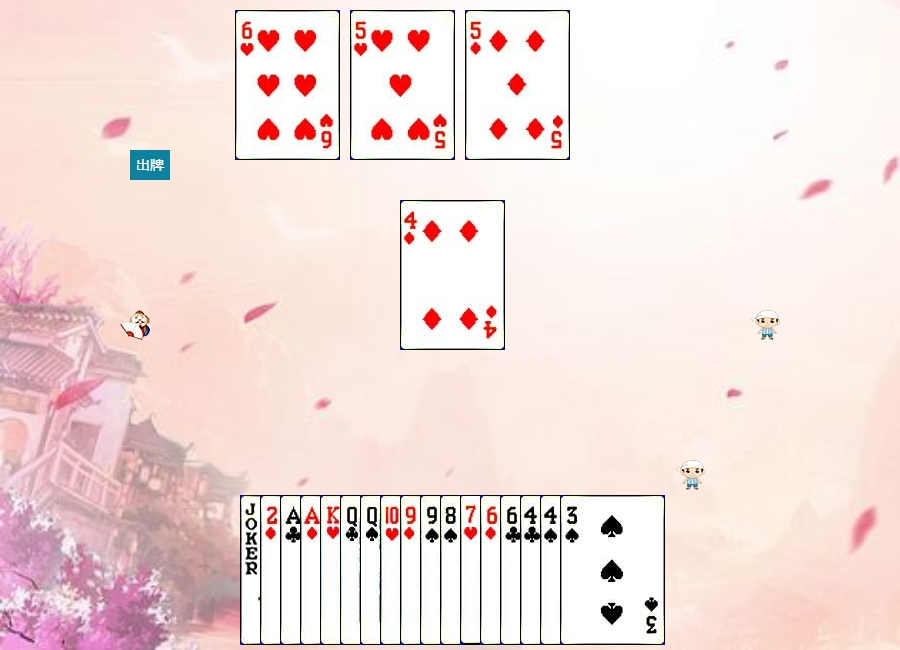10~3: (380, 495, 485, 645)
12~2: (340, 495, 445, 645)
12~4: (360, 495, 465, 645)
13~3: (320, 495, 425, 645)
14~1: (300, 495, 405, 645)
14~2: (280, 495, 385, 645)
15~1: (260, 495, 365, 645)
17~3: (240, 495, 345, 645)
3~4: (560, 495, 665, 645)
4~1: (400, 200, 505, 350)
4~2: (520, 495, 625, 645)
4~4: (540, 495, 645, 645)
5~1: (465, 10, 570, 160)
5~3: (350, 10, 455, 160)
6~1: (480, 495, 585, 645)
6~2: (500, 495, 605, 645)
6~3: (235, 10, 340, 160)
7~3: (460, 495, 565, 645)
8~4: (440, 495, 545, 645)
9~1: (400, 495, 505, 645)
9~4: (420, 495, 525, 645)
